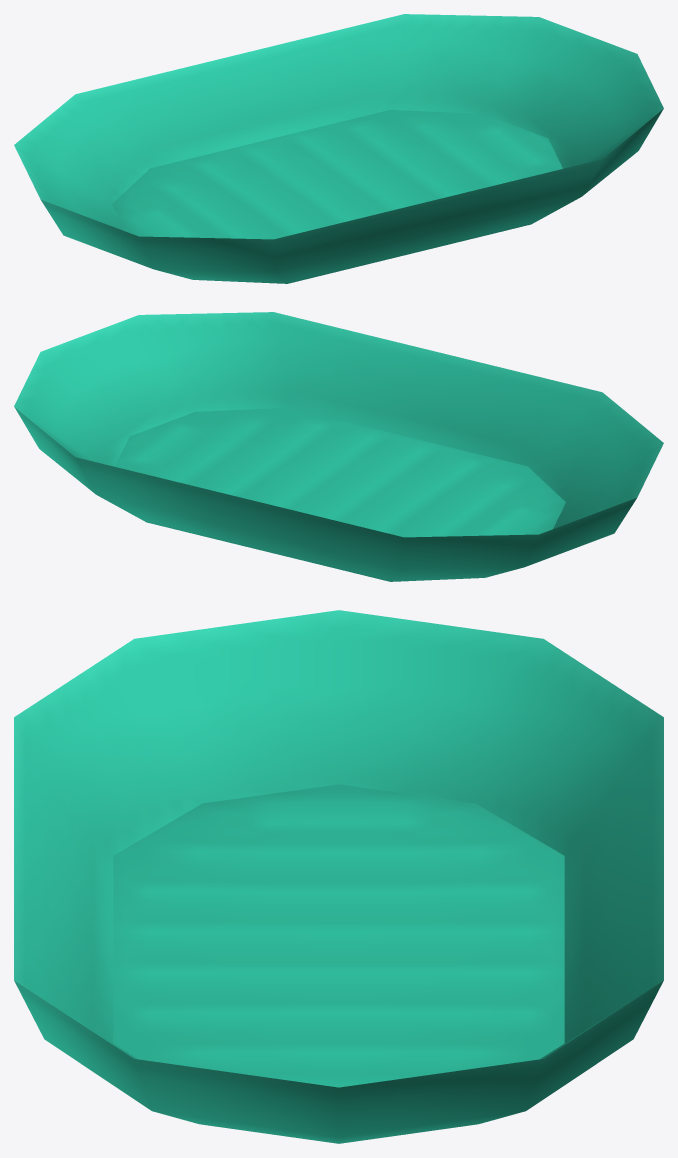
The model's file is jsf_Tray_10.fbx.
3 views of the same model, one above another, from view 1: azimuth 30°, elevation 25°; view 2: azimuth 150°, elevation 25°; view 3: azimuth 270°, elevation 25° (orthographic). The views are drawn at different scales.
Parts seen in each view (by area): view 1: jsf_Tray_10; view 2: jsf_Tray_10; view 3: jsf_Tray_10.
Boxes of the visible parts, x1=… form: jsf_Tray_10: x1=14, y1=14, x2=663, y2=283; jsf_Tray_10: x1=14, y1=312, x2=663, y2=581; jsf_Tray_10: x1=14, y1=610, x2=663, y2=1143.
Size of the model in its own units: 12.35 by 1.5 by 7.11.
